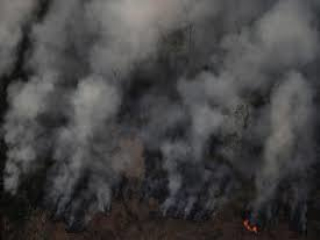fire: (236, 217, 261, 234)
smoke: (148, 65, 306, 214), (10, 75, 137, 214)
